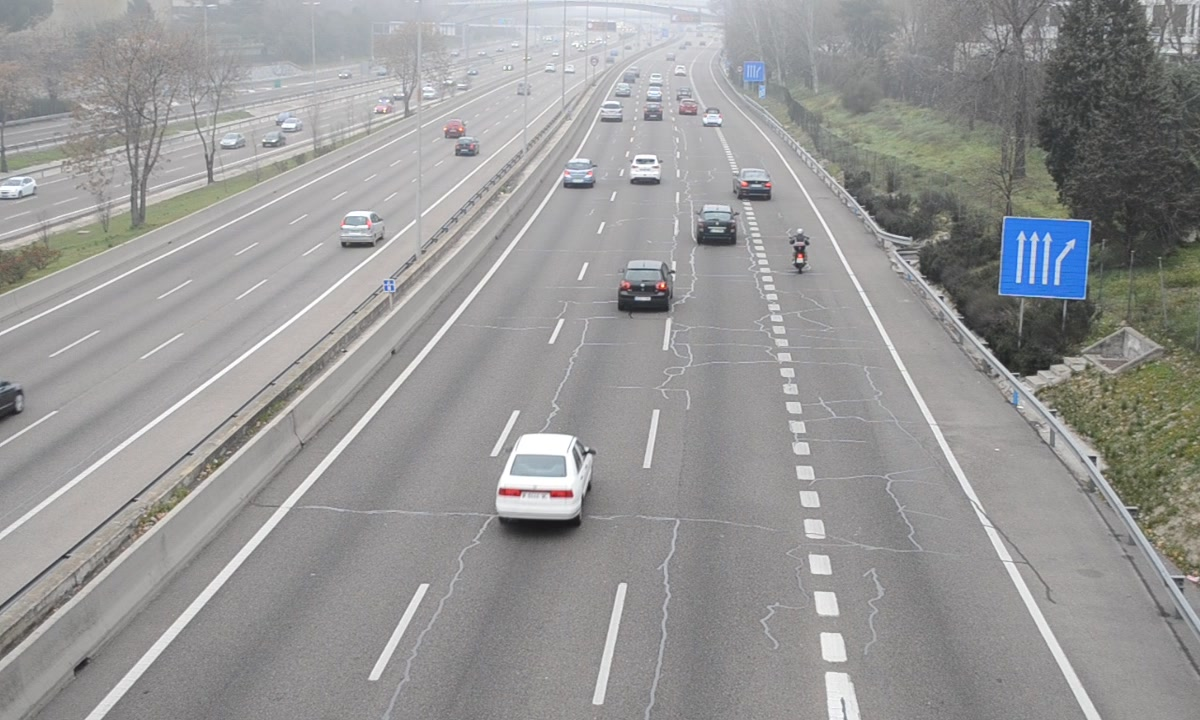car: (497, 435, 594, 522), (616, 261, 674, 310), (695, 205, 739, 247), (734, 168, 773, 203), (628, 155, 664, 185), (560, 158, 596, 188), (598, 98, 622, 123)
motorcycle: (790, 227, 811, 277)
